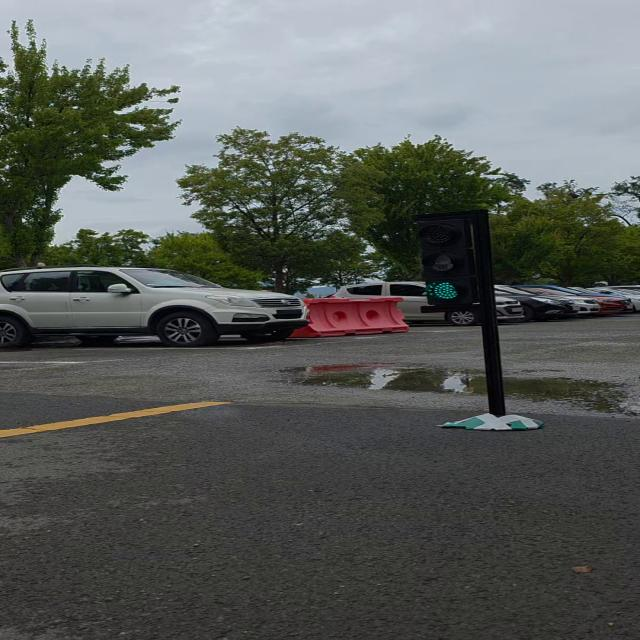green: (412, 214, 492, 308)
